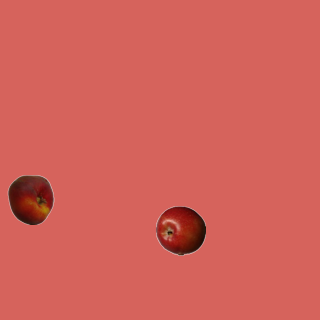Apple Braeburn: (155, 205, 205, 255)
Nectarine Flat: (5, 174, 55, 224)
